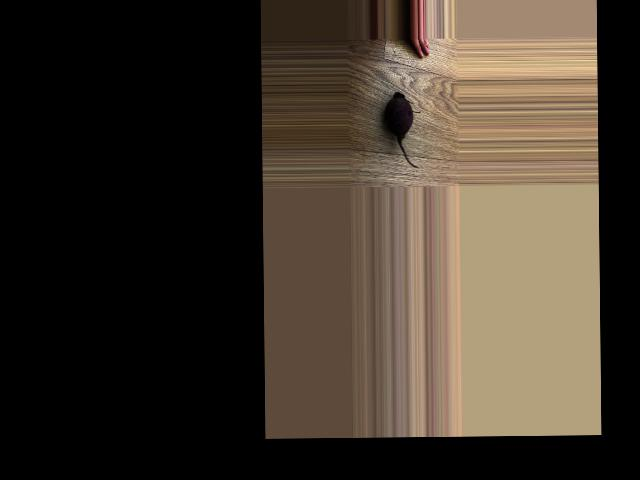beet: (384, 92, 420, 169)
